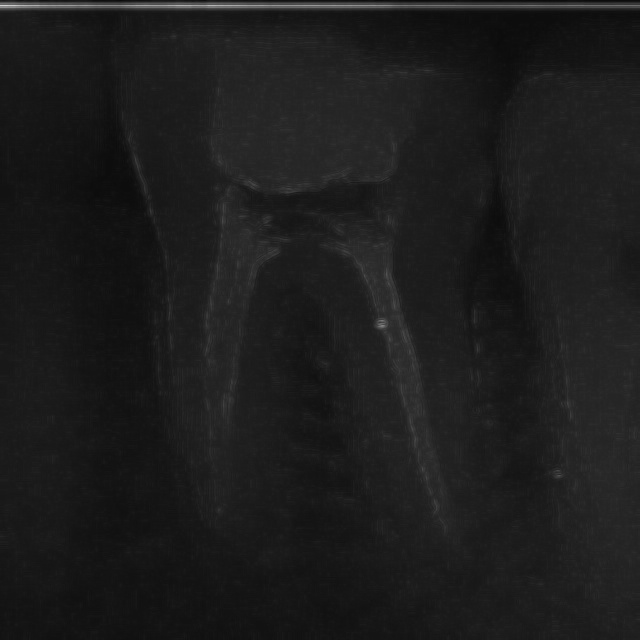Class 1- complete endodontic treatment: (84, 23, 570, 614)
